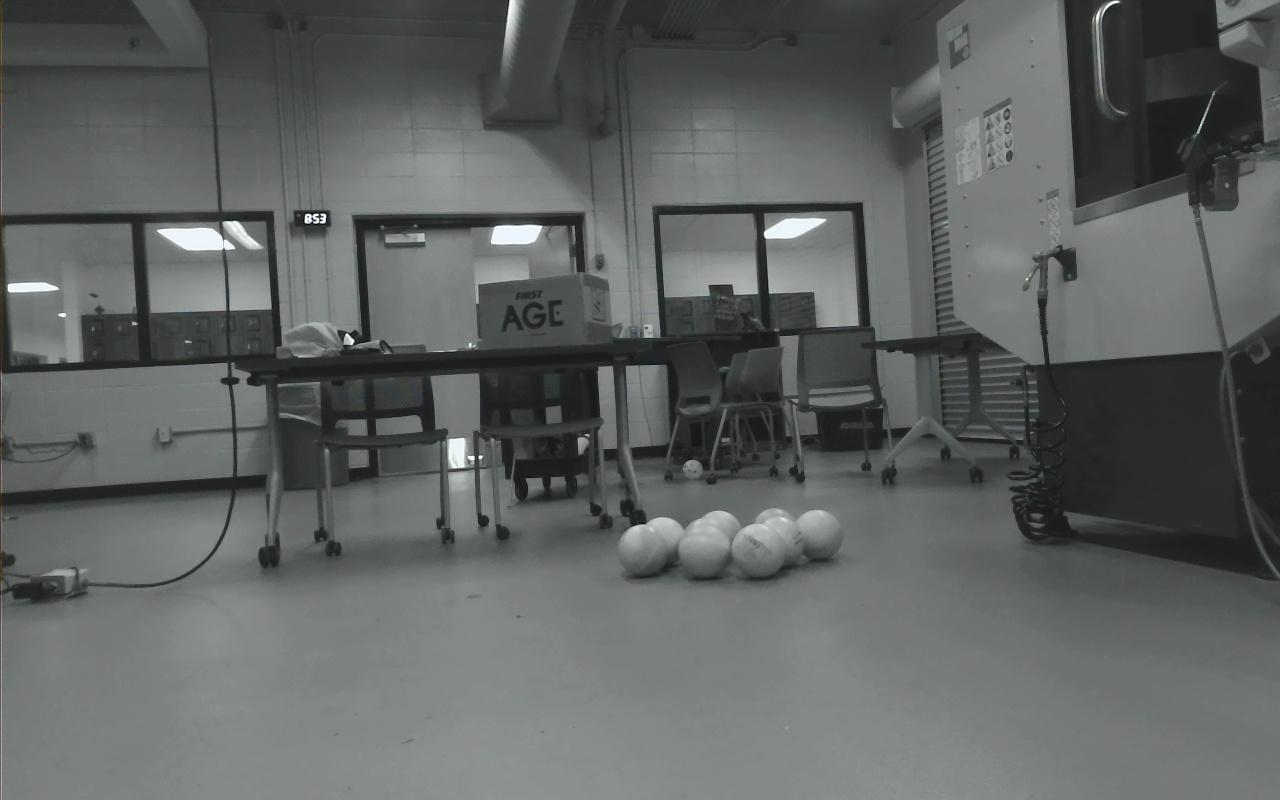Fuel: (731, 524, 786, 578), (677, 525, 731, 579), (617, 525, 667, 576), (795, 509, 844, 561), (685, 517, 732, 570), (762, 516, 805, 570), (643, 515, 686, 567), (703, 510, 742, 562), (753, 508, 794, 532)
